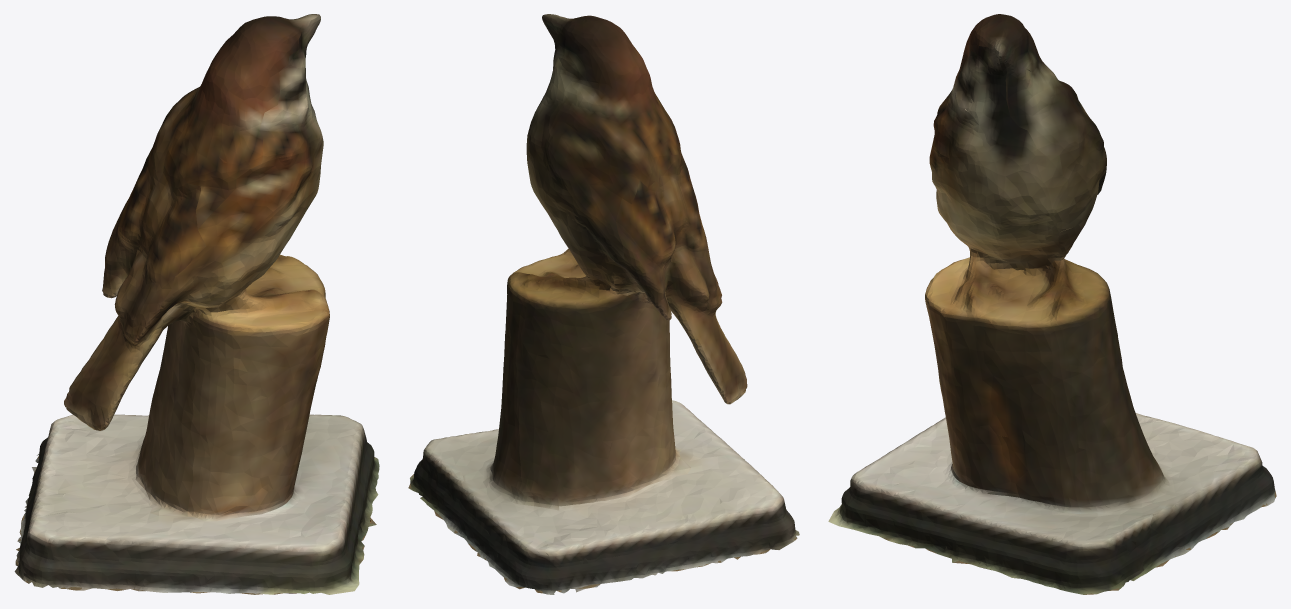
The model's file is asset.glb.
3 renders of one model, left to right at view 1: azimuth 30°, elevation 25°; view 2: azimuth 150°, elevation 25°; view 3: azimuth 270°, elevation 25°, orthographic. The views are drawn at different scales.
Bounding box in the file's own units: 0.3938 × 0.5 × 0.4004.
Materials: 1 (1 with a texture image).
